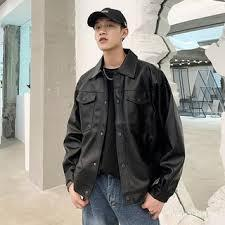jacket: (64, 61, 185, 201)
